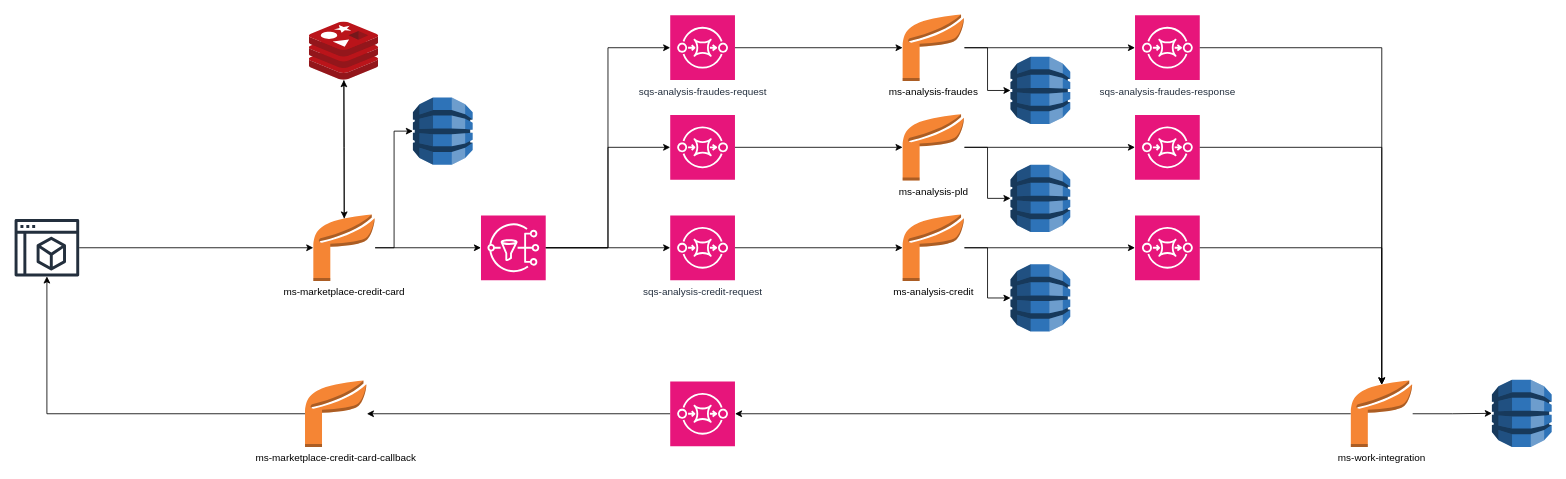
The diagram is 1566 pixels wide and 479 high, and some of its shapes have lost their labels. The centre of each missing label's shape, as x and y in pixels:
"sns-analysis-credit-request" goes at point 513,247.
"sqs-analysis-credit-card-response" goes at point 702,413.
"sqs-analysis-credit-response" goes at point 1167,247.
"sqs-analysis-pld-request" goes at point 702,147.
"sqs-analysis-pld-response" goes at point 1167,147.
